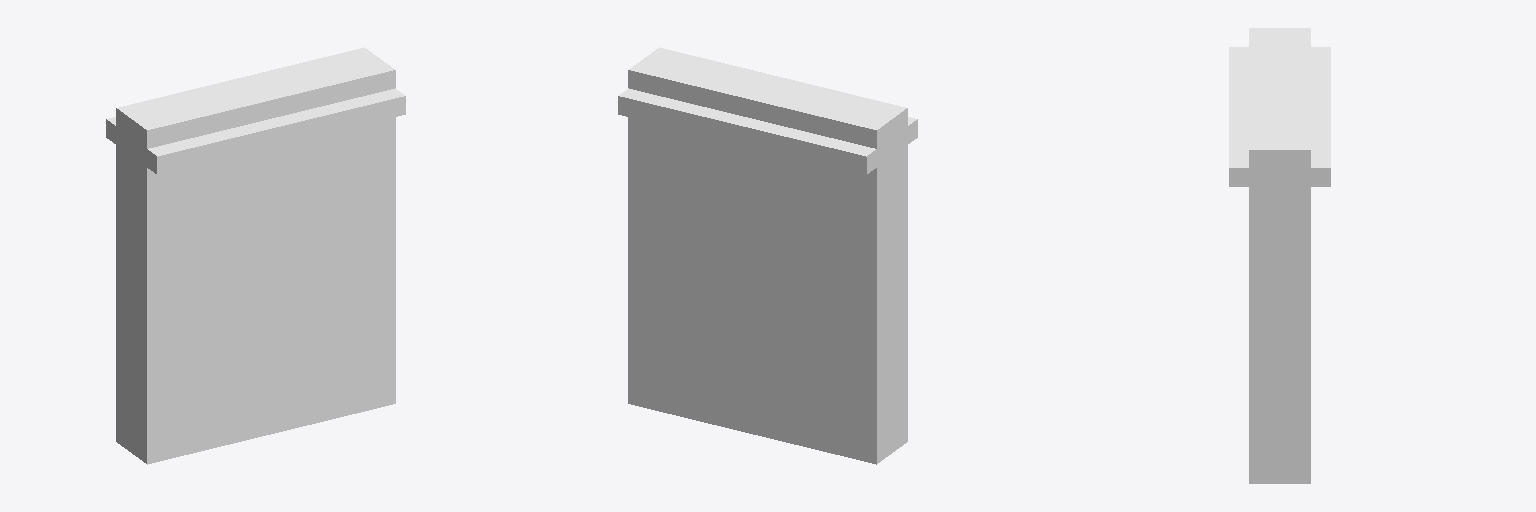
Rendered from murCeglaGraffiti.obj.
The picture shows the model from 3 angles: view 1: azimuth 30°, elevation 25°; view 2: azimuth 150°, elevation 25°; view 3: azimuth 270°, elevation 25°; orthographic projection.
Parts seen in each view (by area): view 1: object 1; view 2: object 1; view 3: object 1.
Boxes of the visible parts, x1=… form: object 1: x1=106, y1=47, x2=405, y2=464; object 1: x1=618, y1=47, x2=917, y2=464; object 1: x1=1229, y1=28, x2=1330, y2=483.
Bounding box in the file's own units: 1.4 × 1.8 × 0.5.